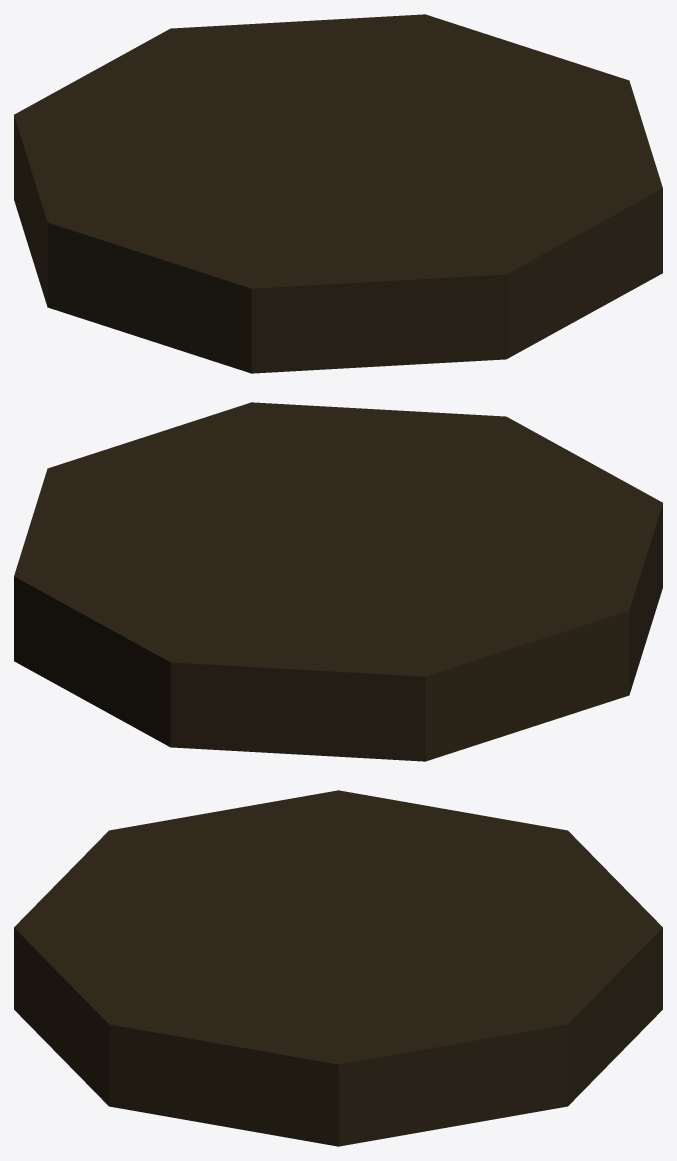
The model's file is Itr_Obj_Cylindercup_Cap_01.FBX.
3 renders of one model, top to bottom at view 1: azimuth 30°, elevation 25°; view 2: azimuth 150°, elevation 25°; view 3: azimuth 270°, elevation 25°, orthographic. The views are drawn at different scales.
Visible parts, largest first — view 1: Itr_Obj_Cylindercup_Cap_01; view 2: Itr_Obj_Cylindercup_Cap_01; view 3: Itr_Obj_Cylindercup_Cap_01.
Boxes of the visible parts, <box> form: Itr_Obj_Cylindercup_Cap_01: <box>14,14,662,373</box>; Itr_Obj_Cylindercup_Cap_01: <box>14,402,662,761</box>; Itr_Obj_Cylindercup_Cap_01: <box>14,790,662,1146</box>.
Bounding box in the file's own units: 4.31 × 0.6011 × 4.31.
